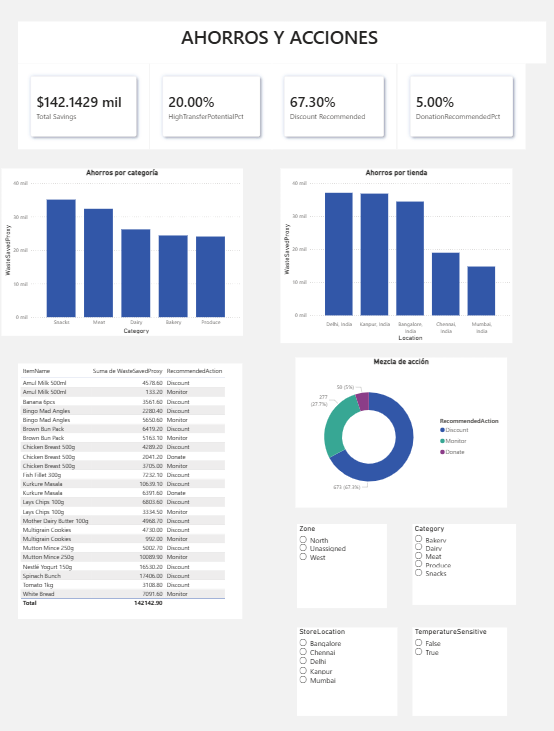

Layout of this report page (visuals, bound fields, positions):
{"tool":"powerbi","page":{"name":"Ahorros y acciones","canvas":[1280,1700],"ordinal":3},"visuals":[{"type":"listSlicer","fields":{"Values":["Smart_waste_decision_engine.Category"]},"box":[945.1,1223.5,237.1,185.6],"z":0},{"type":"listSlicer","fields":{"Values":["Smart_waste_decision_engine.StoreLocation"]},"box":[680.5,1460.6,230.3,202.8],"z":1000},{"type":"listSlicer","fields":{"Values":["Smart_waste_decision_engine.Zone"]},"box":[680.5,1223.5,206.2,192.5],"z":2000},{"type":"listSlicer","fields":{"Values":["Smart_waste_decision_engine.TemperatureSensitive"]},"box":[945.1,1460.6,216.5,202.8],"z":3000},{"type":"cardVisual","fields":{"Data":["Smart_waste_decision_engine.Total Savings"]},"box":[41.2,167.4,300.8,196.5],"z":4000},{"type":"cardVisual","fields":{"Data":["Smart_waste_decision_engine.HighTransferPotentialPct"]},"box":[342.1,167.4,281.4,196.5],"z":5000},{"type":"cardVisual","fields":{"Data":["Smart_waste_decision_engine.Discount Recommended"]},"box":[623.5,167.4,286.3,196.5],"z":6000},{"type":"cardVisual","fields":{"Data":["Smart_waste_decision_engine.DonationRecommendedPct"]},"box":[909.7,167.4,293.5,196.5],"z":7000},{"type":"columnChart","title":"Ahorros por categoría","fields":{"Category":["Smart_waste_decision_engine.Category"],"Y":["Sum(Smart_waste_decision_engine.WasteSavedProxy)"]},"box":[2.4,407.6,553.1,383.3],"z":8000},{"type":"columnChart","title":"Ahorros por tienda","fields":{"Category":["Smart_waste_decision_engine.StoreGeo"],"Y":["Sum(Smart_waste_decision_engine.WasteSavedProxy)"]},"box":[642.9,407.6,531.3,400.3],"z":9000},{"type":"donutChart","title":"Mezcla de acción ","fields":{"Category":["Smart_waste_decision_engine.RecommendedAction"],"Y":["CountNonNull(Smart_waste_decision_engine.RecommendedAction)"]},"box":[677,842,484.6,343.7],"z":10000},{"type":"tableEx","fields":{"Values":["Smart_waste_decision_engine.ItemName","Sum(Smart_waste_decision_engine.WasteSavedProxy)","Smart_waste_decision_engine.RecommendedAction"]},"box":[42,857.2,514.3,585.5],"z":11000},{"type":"textbox","box":[41.2,72.2,1209.7,96.2],"z":12000}]}

Visuals, with their boxes in screenshot pixels (x1, y1, x2, y2), scaled from the page's 1280x1700 canvas onto the 554x731 screenshot:
listSlicer - Smart_waste_decision_engine.Category: crop(409, 526, 512, 606)
listSlicer - Smart_waste_decision_engine.StoreLocation: crop(295, 628, 394, 715)
listSlicer - Smart_waste_decision_engine.Zone: crop(295, 526, 384, 609)
listSlicer - Smart_waste_decision_engine.TemperatureSensitive: crop(409, 628, 503, 715)
cardVisual - Smart_waste_decision_engine.Total Savings: crop(18, 72, 148, 156)
cardVisual - Smart_waste_decision_engine.HighTransferPotentialPct: crop(148, 72, 270, 156)
cardVisual - Smart_waste_decision_engine.Discount Recommended: crop(270, 72, 394, 156)
cardVisual - Smart_waste_decision_engine.DonationRecommendedPct: crop(394, 72, 521, 156)
"Ahorros por categoría" columnChart: crop(1, 175, 240, 340)
"Ahorros por tienda" columnChart: crop(278, 175, 508, 347)
"Mezcla de acción " donutChart: crop(293, 362, 503, 510)
tableEx - Smart_waste_decision_engine.ItemName x Sum(Smart_waste_decision_engine.WasteSavedProxy): crop(18, 369, 241, 620)
textbox: crop(18, 31, 541, 72)
